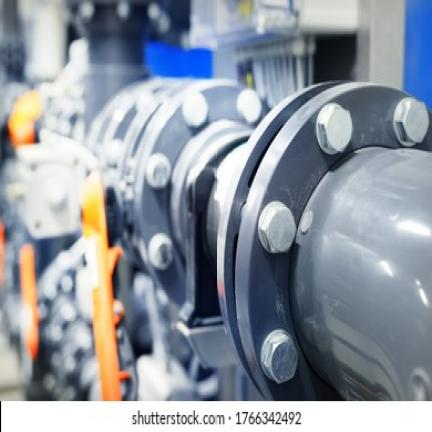besi_tidak_karat: (142, 82, 431, 398)
